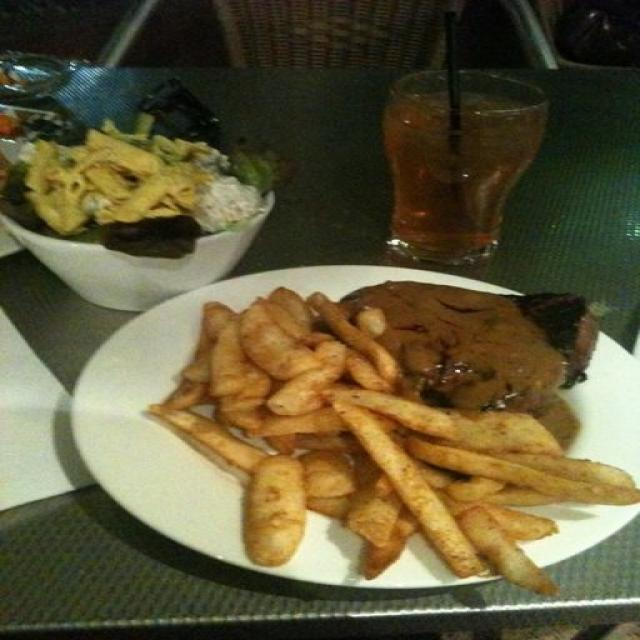French fries: (139, 309, 594, 585)
Steak: (327, 258, 601, 404)
